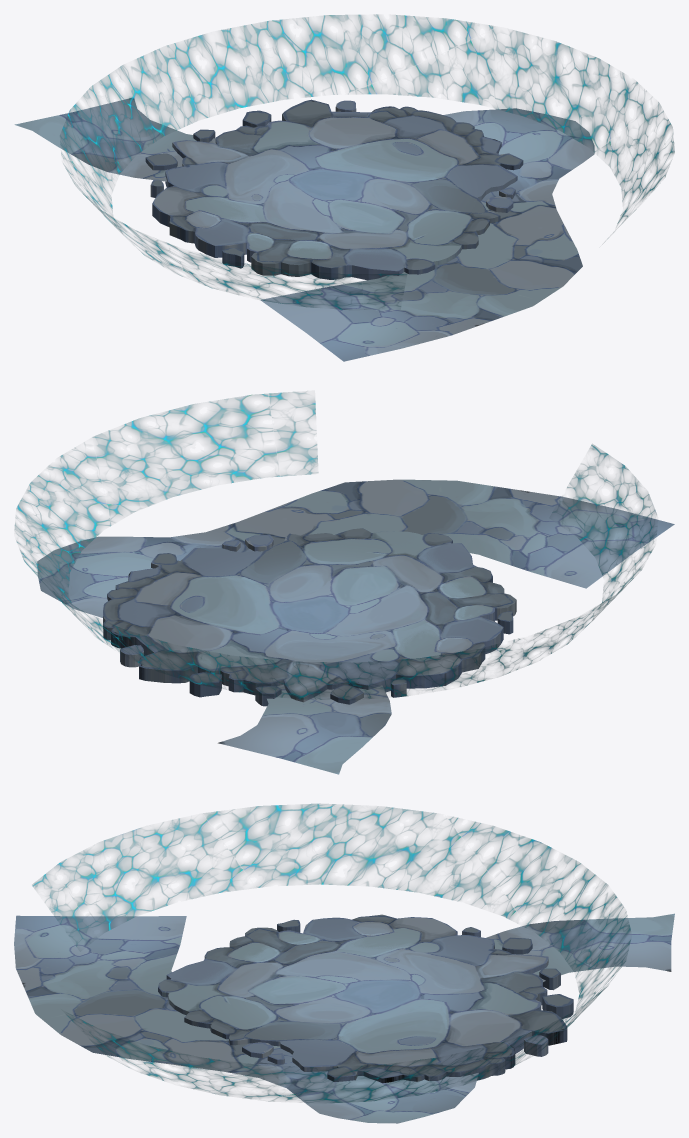
File: Boss_Florr+light.gltf
3 renders of one model, top to bottom at view 1: azimuth 30°, elevation 25°; view 2: azimuth 150°, elevation 25°; view 3: azimuth 270°, elevation 25°, orthographic. The views are drawn at different scales.
Parts seen in each view (by area): view 1: Plane.037, EN_Arena_Floor_Plane2-water.010, VFX_Water_Light; view 2: Plane.037, EN_Arena_Floor_Plane2-water.010, VFX_Water_Light; view 3: Plane.037, EN_Arena_Floor_Plane2-water.010, VFX_Water_Light.
Part boxes in pixels (x1,y1,x2,y2): Plane.037: [145, 99, 523, 280]; EN_Arena_Floor_Plane2-water.010: [14, 98, 594, 361]; VFX_Water_Light: [60, 14, 674, 309]; Plane.037: [103, 528, 516, 706]; EN_Arena_Floor_Plane2-water.010: [37, 479, 674, 774]; VFX_Water_Light: [15, 392, 656, 700]; Plane.037: [158, 914, 573, 1083]; EN_Arena_Floor_Plane2-water.010: [14, 913, 674, 1123]; VFX_Water_Light: [32, 803, 630, 1103].
Bounding box in the file's own units: 51.04 × 6.65 × 54.03.
Materials: 3 (3 with a texture image).
